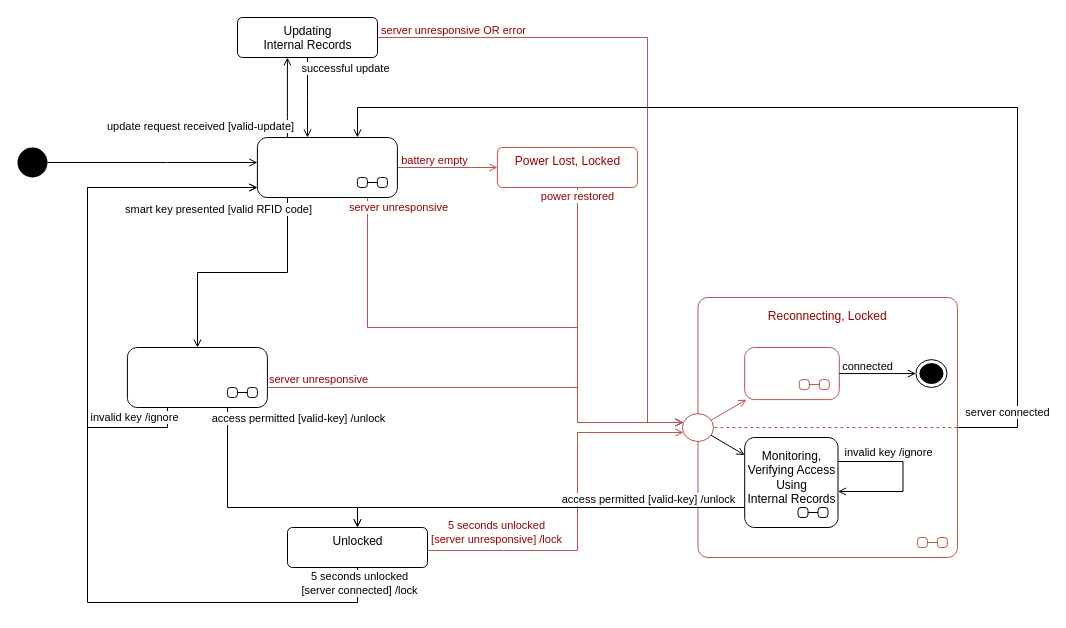
Some shapes in this 1066 by 628 pixel diagram are drawn without their labels. The shapes that lost their labels are listed below. From the top down, each one's box as (x1, y1, x2, y2) in pixels, then its label:
(256, 136, 397, 198): Monitoring, Locked
(126, 346, 267, 408): Verifying Access, Locked
(744, 346, 839, 400): Reconnecting
